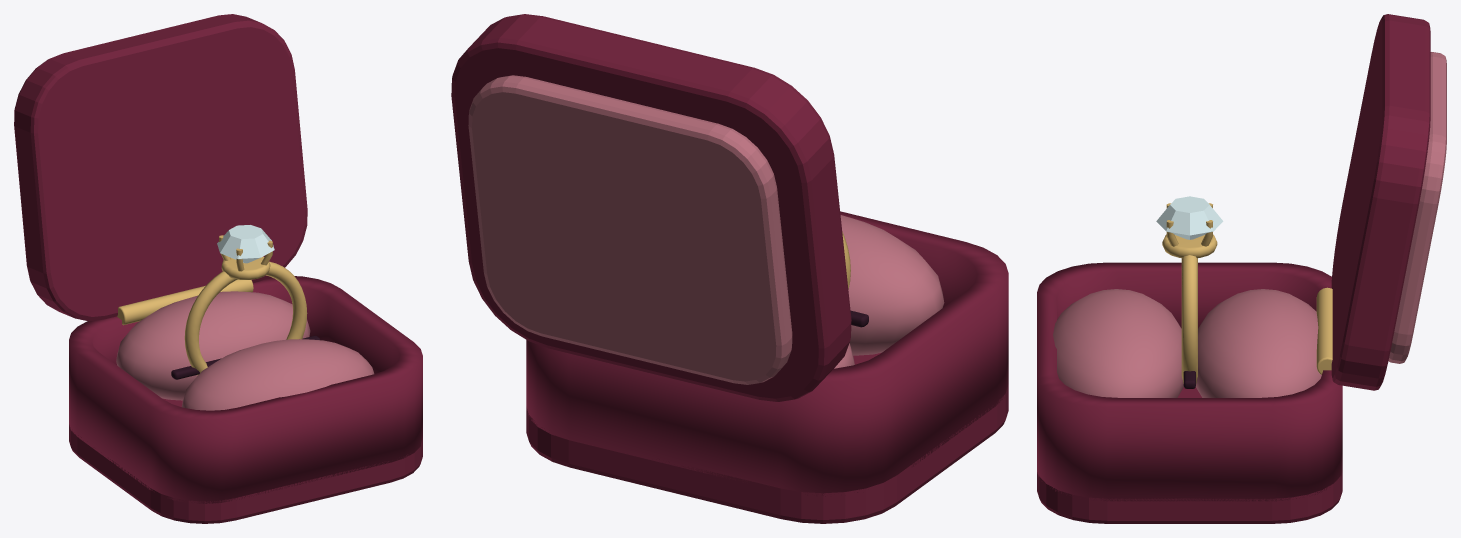
The model's file is P002_ring_box_rebuilt.glb.
3 views of the same model, side by side, from view 1: azimuth 30°, elevation 25°; view 2: azimuth 150°, elevation 25°; view 3: azimuth 270°, elevation 25° (orthographic). The views are drawn at different scales.
Visible parts, largest first — view 1: Claret_velvet_shell, Rose_velvet_lining, Ring_yellow_gold, Diamond_graphic_cool_crystal; view 2: Claret_velvet_shell, Rose_velvet_lining; view 3: Claret_velvet_shell, Rose_velvet_lining, Ring_yellow_gold, Diamond_graphic_cool_crystal.
Boxes of the visible parts, x1,y1,x2,y2 form: Claret_velvet_shell: (14,14,422,523); Rose_velvet_lining: (116,291,374,410); Ring_yellow_gold: (117,235,307,375); Diamond_graphic_cool_crystal: (217,225,274,263); Claret_velvet_shell: (451,14,1008,523); Rose_velvet_lining: (468,75,944,384); Claret_velvet_shell: (1037,14,1430,523); Rose_velvet_lining: (1053,52,1446,397); Ring_yellow_gold: (1162,203,1332,383); Diamond_graphic_cool_crystal: (1156,196,1223,239).
Bounding box in the file's own units: 0.112 × 0.1411 × 0.1341.
